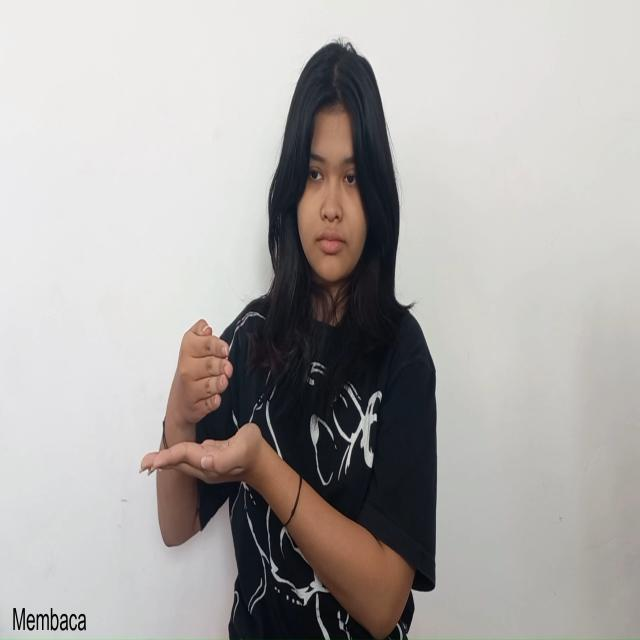Membaca -BISINDO-: (138, 318, 263, 492)
